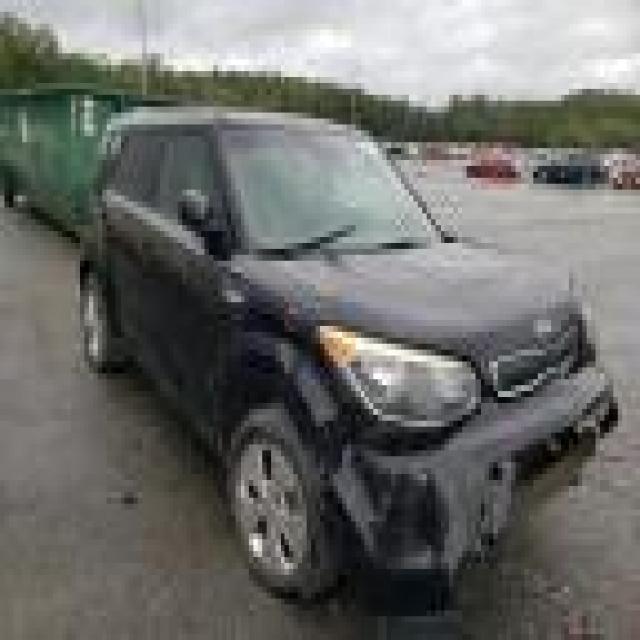moderate: (249, 266, 640, 598)
